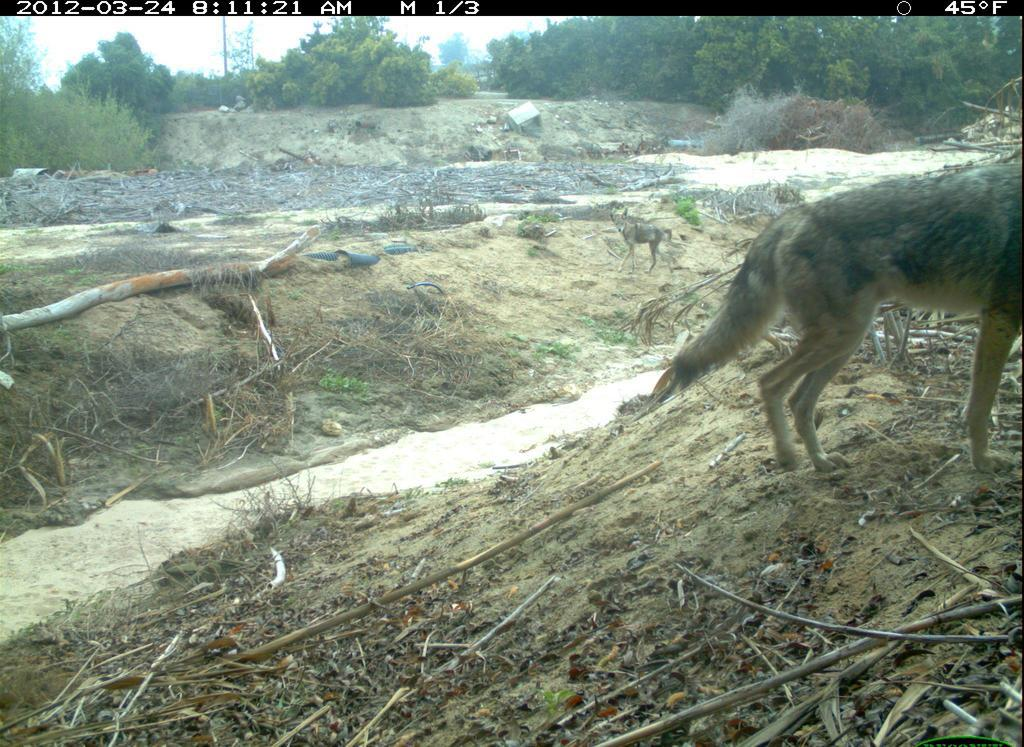coyote: (653, 144, 1019, 482)
